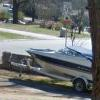Boat: (25, 34, 100, 91)
